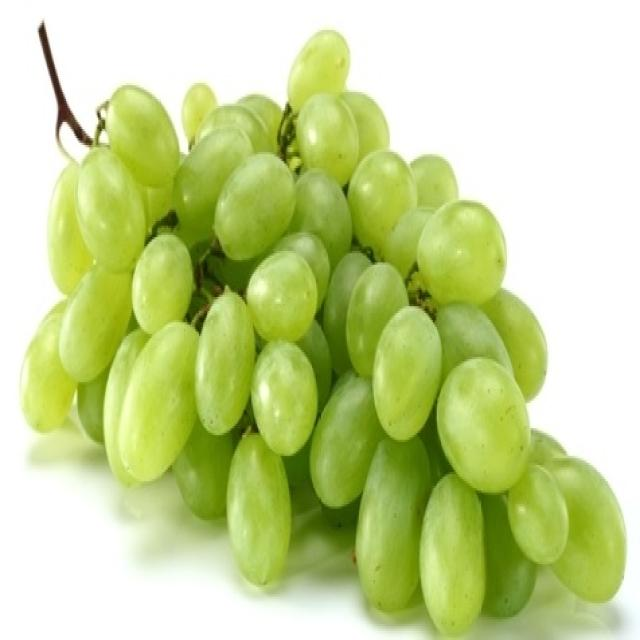grape: (19, 23, 623, 628)
